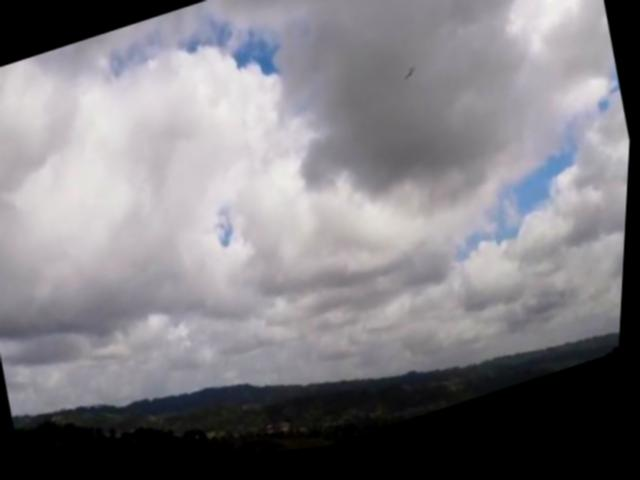iha: (404, 74, 419, 91)
